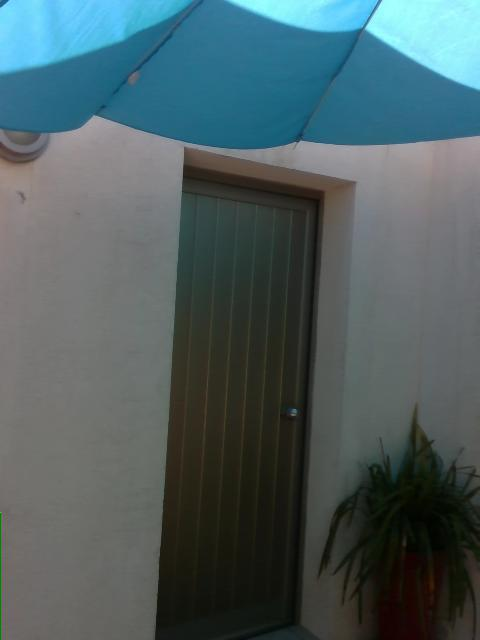door: (157, 147, 357, 635)
